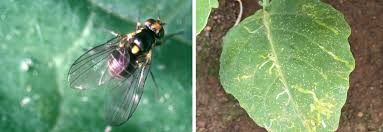Trifoli: (67, 14, 170, 126)
